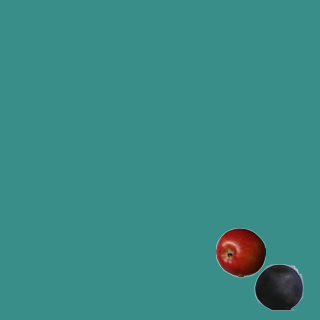Apple Braeburn: (215, 227, 265, 277)
Grape Blue: (253, 261, 303, 311)
